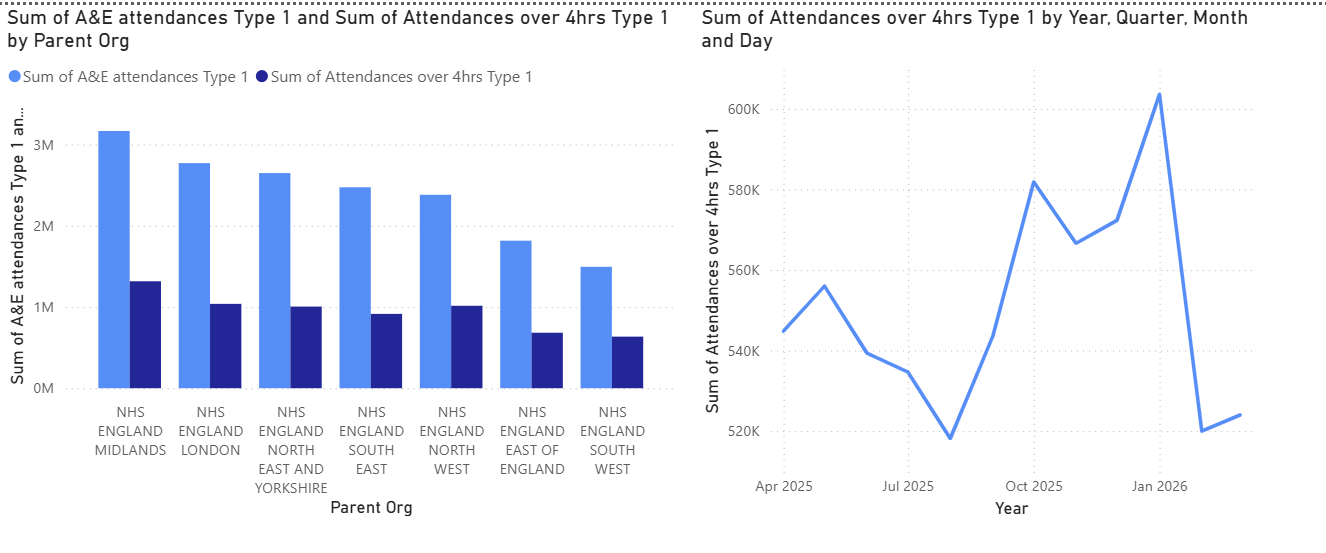

The page's visual inventory and layout, read from the dashboard file:
{"tool":"powerbi","page":{"name":"over 4 hour Type 1","canvas":[1280,720],"ordinal":2},"visuals":[{"type":"clusteredColumnChart","fields":{"Category":["NHS_AE_Data.Parent Org"],"Y":["Sum(NHS_AE_Data.A&E attendances Type 1)","Sum(NHS_AE_Data.Attendances over 4hrs Type 1)"]},"box":[10,0,568,431],"z":0},{"type":"lineChart","fields":{"Y":["Sum(NHS_AE_Data.Attendances over 4hrs Type 1)"],"Category":["Calendar.Date.Variation.Date Hierarchy.Year","Calendar.Date.Variation.Date Hierarchy.Quarter","Calendar.Date.Variation.Date Hierarchy.Month","Calendar.Date.Variation.Date Hierarchy.Day"]},"box":[588.8,0,482.5,431.2],"z":1}]}

Visuals, with their boxes on the page's 1280x720 design canvas (x1, y1, x2, y2). These are canvas units, not pixel positions in the 1326x553 screenshot, which may show the page scaled, cropped or inside an application window:
clusteredColumnChart - NHS_AE_Data.Parent Org x Sum(NHS_AE_Data.A&E attendances Type 1): x1=10, y1=0, x2=578, y2=431
lineChart - Sum(NHS_AE_Data.Attendances over 4hrs Type 1) x Calendar.Date.Variation.Date Hierarchy.Year: x1=589, y1=0, x2=1071, y2=431
